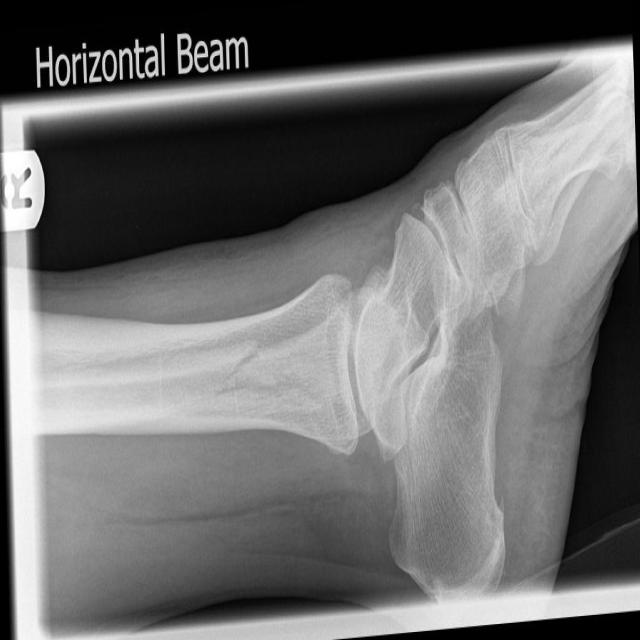Oblique Displaced: (214, 322, 264, 421)
